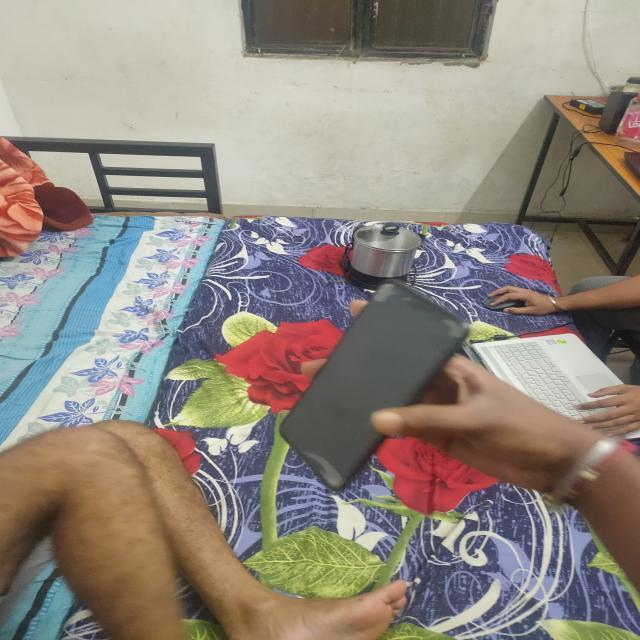Phone: (276, 279, 472, 499)
